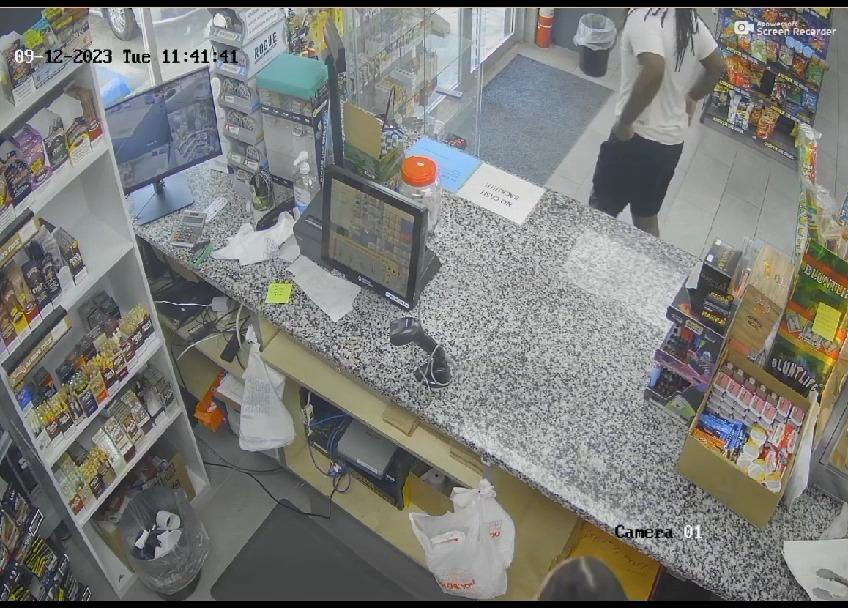shoplifting: (586, 5, 732, 245)
